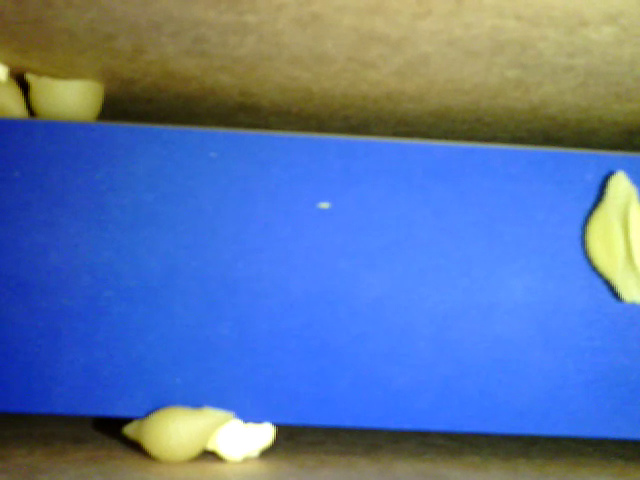shell: (580, 168, 639, 305), (123, 403, 237, 461), (26, 70, 104, 126)
